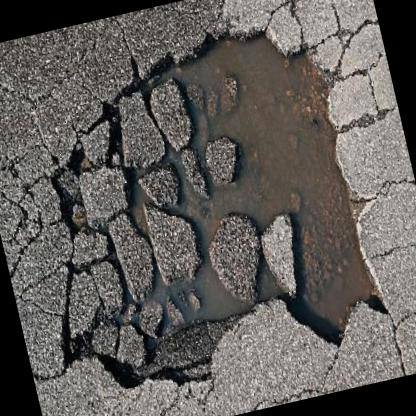pothole: (0, 1, 399, 416)
